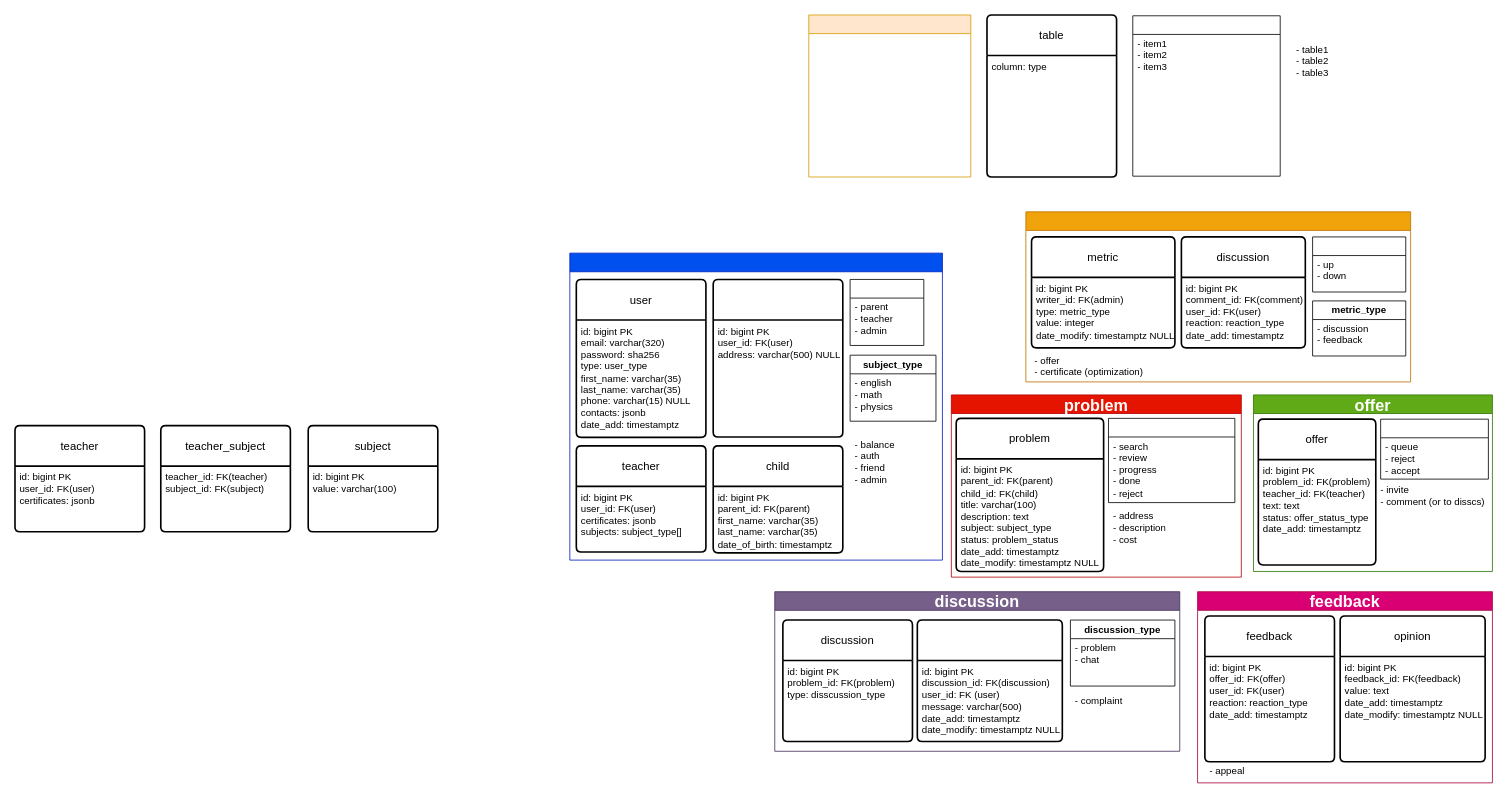
This 1508x807 diagram has some shape labels left out. Here are the shapes that lost their labels. From the top down, the box of each, then its label:
(808, 14, 971, 177): schema (with color)
(1132, 15, 1280, 176): enum
(1312, 236, 1406, 292): reaction_type
(849, 279, 924, 345): user_type
(1025, 211, 1411, 382): reputation
(712, 278, 843, 437): parent
(569, 252, 942, 560): profile
(1108, 418, 1235, 503): problem_status_type
(1380, 418, 1488, 479): offer_status_type
(916, 619, 1063, 742): comment
